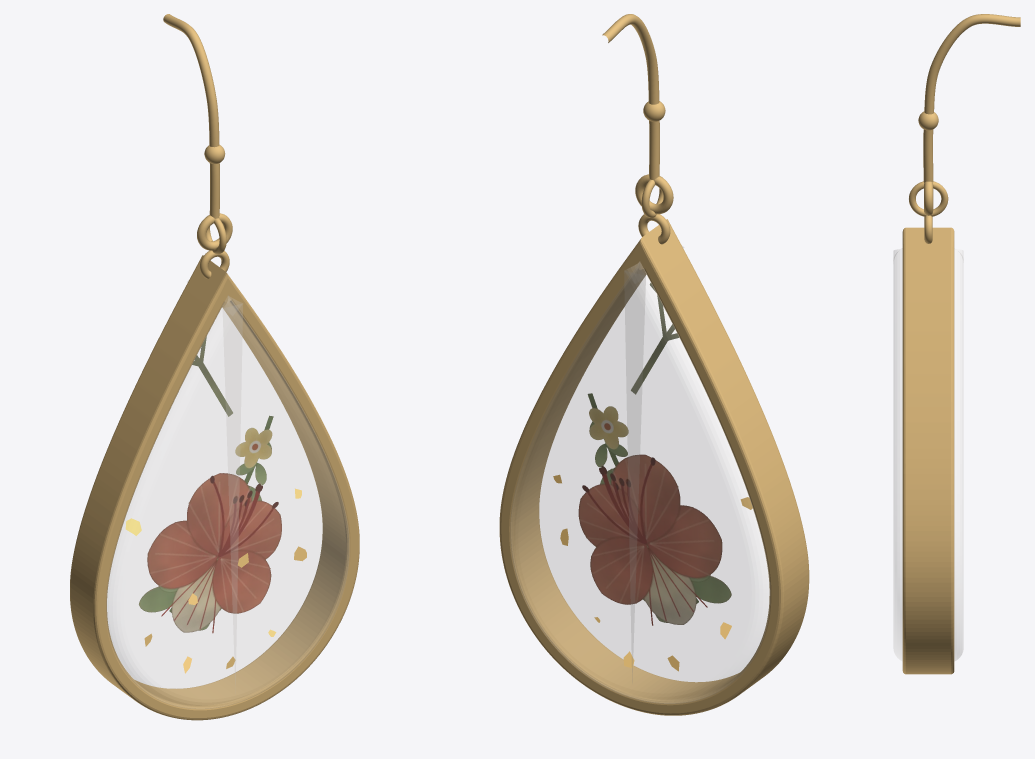
File: gulmohar-botanical-drops.glb
3 renders of one model, left to right at view 1: azimuth 30°, elevation 25°; view 2: azimuth 150°, elevation 25°; view 3: azimuth 270°, elevation 25°, orthographic. The views are drawn at different scales.
Parts seen in each view (by area): view 1: object 1, object 12, object 2, object 14, gulmohar-botanical-drops, object 15; view 2: object 1, object 12, object 2, object 14, gulmohar-botanical-drops, object 15; view 3: object 12, object 1, object 14, gulmohar-botanical-drops, object 15, object 16.
Part boxes in pixels (x1=…): object 1: x1=106, y1=281, x2=349, y2=708; object 12: x1=70, y1=255, x2=359, y2=720; object 2: x1=139, y1=336, x2=281, y2=633; object 14: x1=163, y1=14, x2=219, y2=218; gulmohar-botanical-drops: x1=200, y1=215, x2=229, y2=278; object 15: x1=197, y1=213, x2=232, y2=250; object 1: x1=510, y1=246, x2=770, y2=703; object 12: x1=499, y1=219, x2=809, y2=715; object 2: x1=578, y1=283, x2=731, y2=625; object 14: x1=602, y1=14, x2=659, y2=180; gulmohar-botanical-drops: x1=638, y1=176, x2=670, y2=244; object 15: x1=635, y1=174, x2=673, y2=214; object 12: x1=902, y1=227, x2=954, y2=674; object 1: x1=893, y1=248, x2=963, y2=660; object 14: x1=923, y1=14, x2=1020, y2=182; gulmohar-botanical-drops: x1=909, y1=181, x2=948, y2=243; object 15: x1=924, y1=181, x2=933, y2=215; object 16: x1=918, y1=111, x2=938, y2=130.
Bounding box in the file's own units: 3.3 × 5.26 × 0.9399.
Materials: 4 (1 with a texture image).
